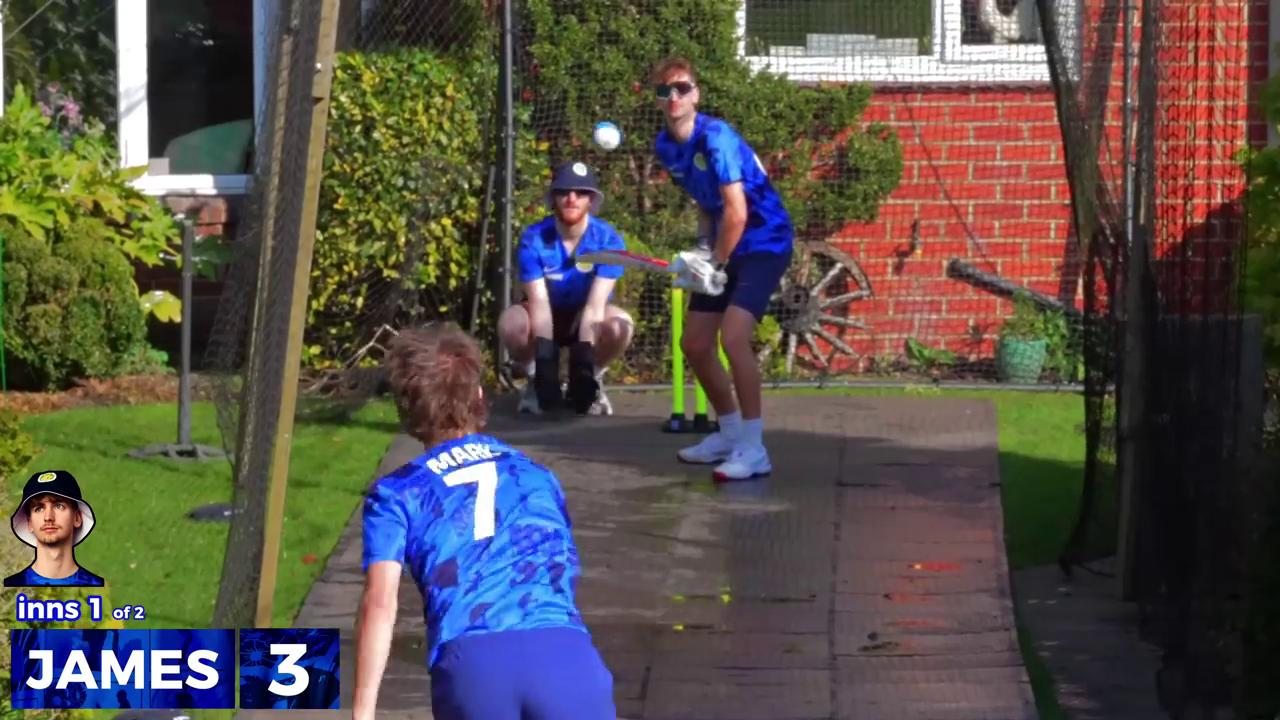ball: (583, 112, 627, 158)
